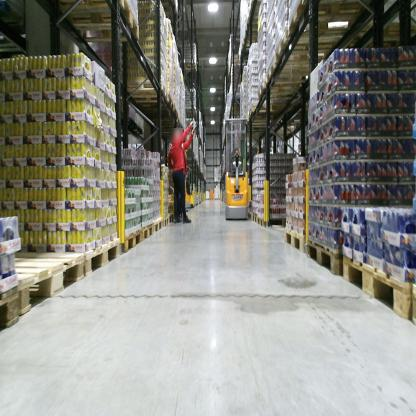pallet: (1, 253, 84, 325), (340, 256, 411, 326), (53, 1, 142, 43), (286, 1, 377, 39), (274, 27, 368, 63), (78, 237, 121, 281), (265, 58, 316, 84), (258, 77, 316, 99), (306, 242, 340, 279), (1, 284, 25, 331), (120, 81, 168, 103), (132, 94, 174, 112), (282, 228, 305, 254), (247, 105, 288, 119), (138, 105, 179, 119), (120, 228, 142, 254), (159, 1, 178, 24), (258, 215, 287, 229), (240, 34, 262, 52), (244, 17, 262, 35), (248, 1, 271, 15), (408, 281, 414, 326), (139, 221, 154, 239), (182, 61, 198, 72), (153, 217, 163, 231), (185, 108, 196, 116), (162, 216, 169, 228), (251, 211, 258, 222), (168, 215, 174, 225)
pallet_truck: (216, 114, 252, 223), (173, 163, 196, 212)
